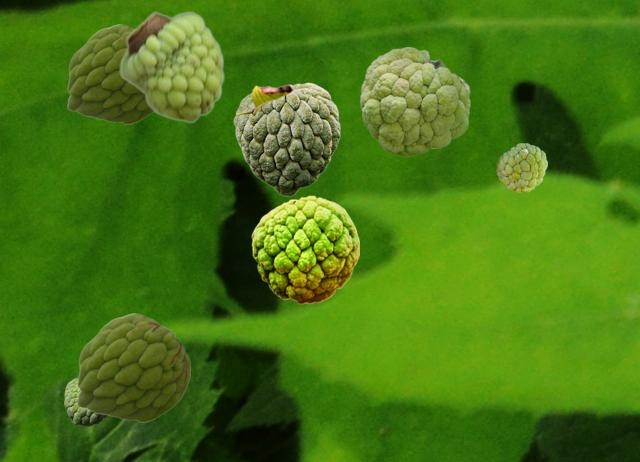atis: (77, 313, 189, 421), (233, 82, 339, 195), (119, 10, 224, 123), (360, 47, 469, 155), (251, 195, 358, 303), (67, 24, 152, 123), (496, 143, 546, 191), (64, 377, 108, 425)
